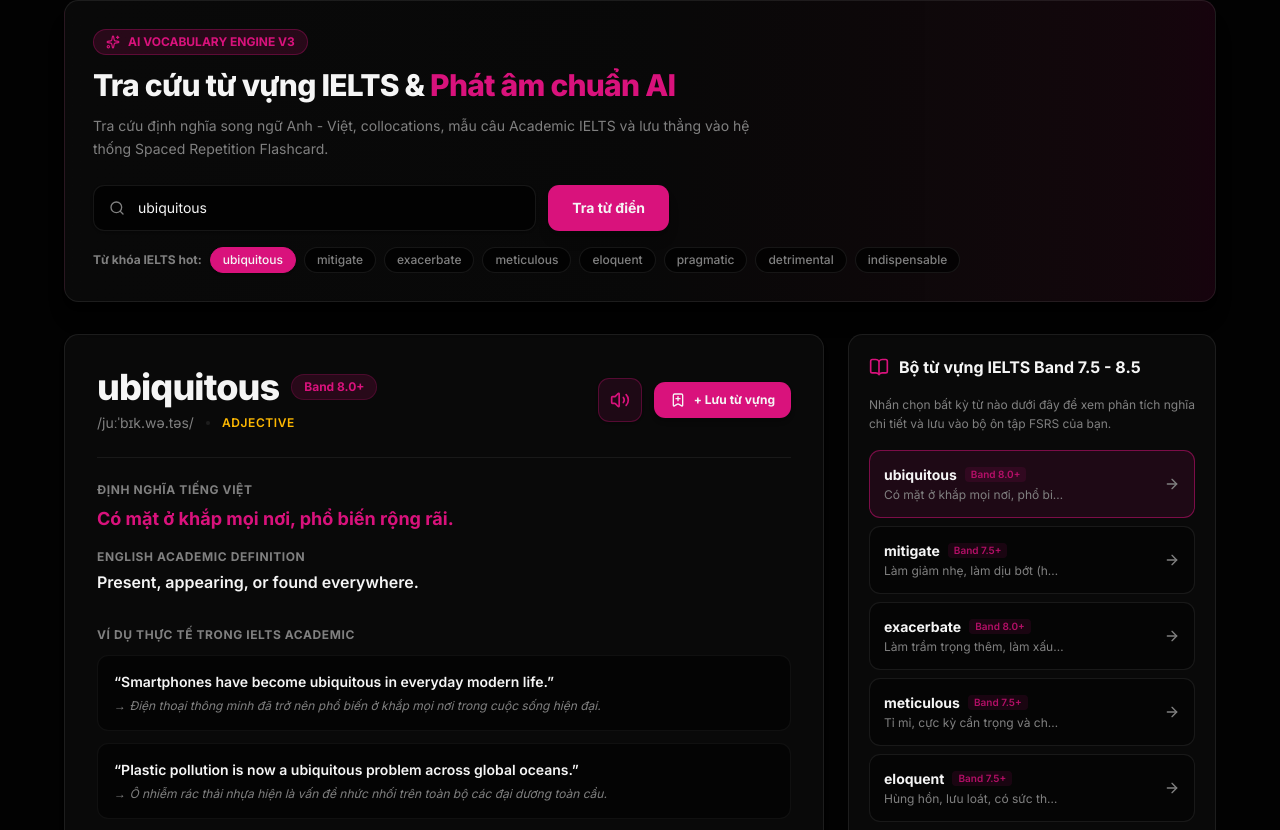
Test: DictionaryClient component › switches to another IELTS word when clicking hot word pill
Click the button "mitigate".
click(340, 260)  # box [304,246,376,272]
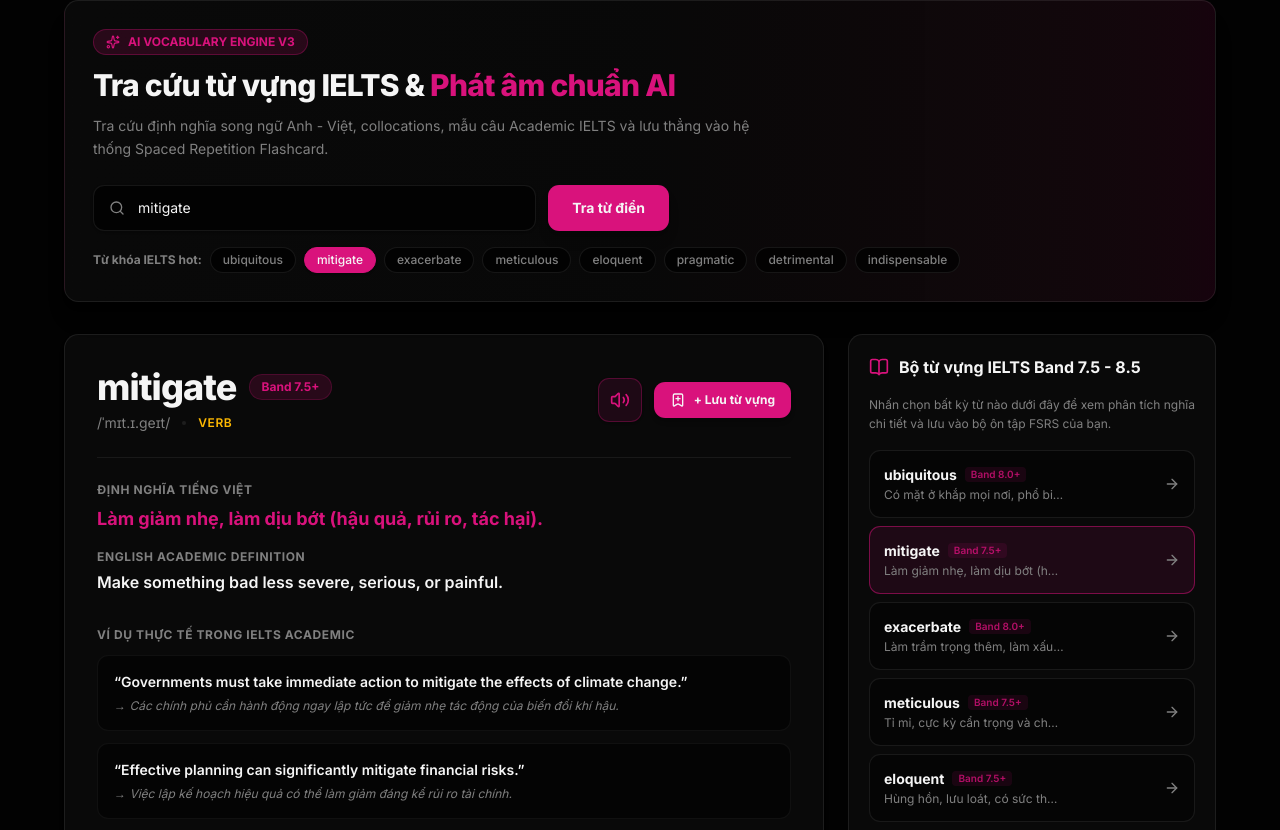
Now the text "Làm giảm nhẹ, làm dịu bớt (hậu quả, rủi ro, tác hại)." below "Định nghĩa tiếng Việt" is shown, box [97,508,543,528]
